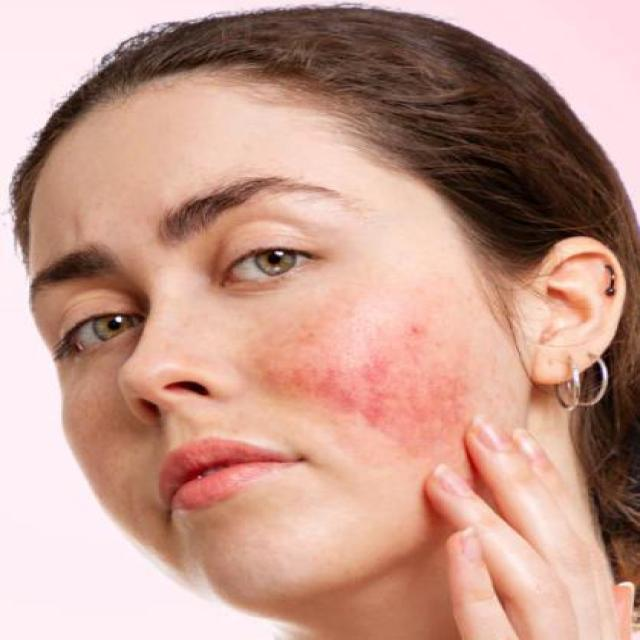skinredness: (239, 296, 485, 472)
